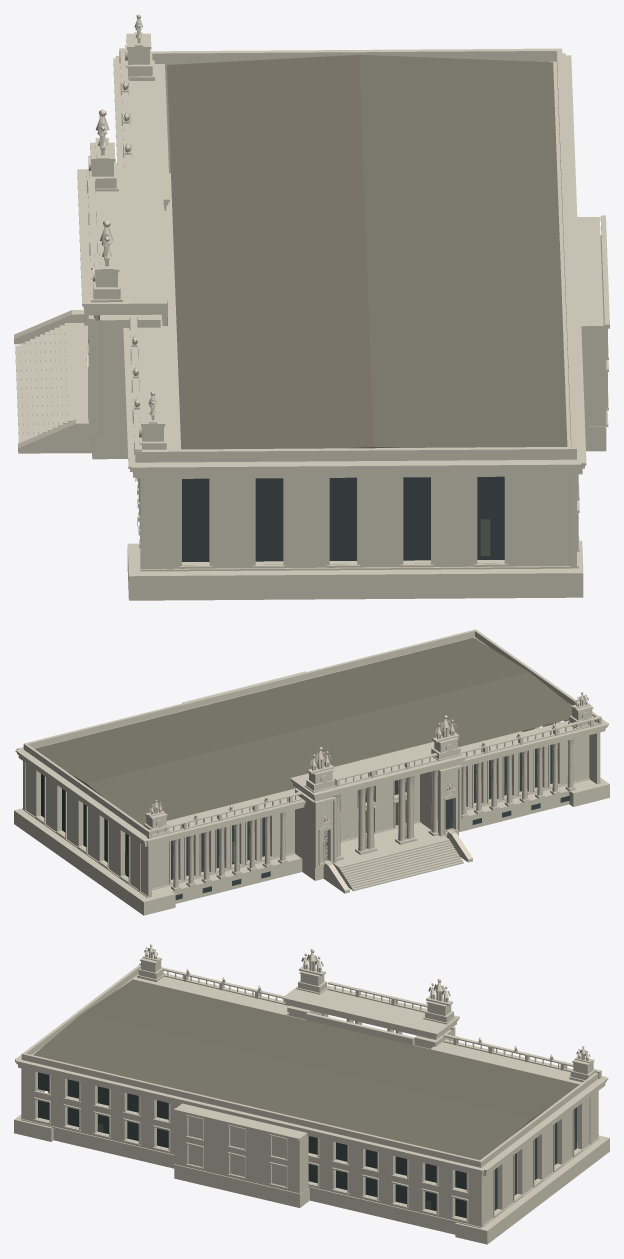
File: riverside-county-courthouse-far.glb
3 views of the same model, one above another, from view 1: azimuth 30°, elevation 25°; view 2: azimuth 150°, elevation 25°; view 3: azimuth 270°, elevation 25° (orthographic). The views are drawn at different scales.
Visible parts, largest first — view 1: riverside-county-courthouse-0-roof, riverside-county-courthouse-0-stone, riverside-county-courthouse-0-glass; view 2: riverside-county-courthouse-0-stone, riverside-county-courthouse-0-roof, riverside-county-courthouse-0-glass; view 3: riverside-county-courthouse-0-stone, riverside-county-courthouse-0-roof, riverside-county-courthouse-0-glass.
Boxes of the visible parts, x1,y1,x2,y2 form: riverside-county-courthouse-0-roof: (167, 54, 567, 449); riverside-county-courthouse-0-stone: (14, 14, 609, 600); riverside-county-courthouse-0-glass: (135, 317, 504, 561); riverside-county-courthouse-0-stone: (14, 629, 609, 915); riverside-county-courthouse-0-roof: (34, 637, 571, 825); riverside-county-courthouse-0-glass: (41, 744, 569, 899); riverside-county-courthouse-0-stone: (14, 944, 609, 1244); riverside-county-courthouse-0-roof: (33, 979, 579, 1160); riverside-county-courthouse-0-glass: (38, 1072, 576, 1218).
Bounding box in the file's own units: 70.9 × 20.74 × 87.35.
